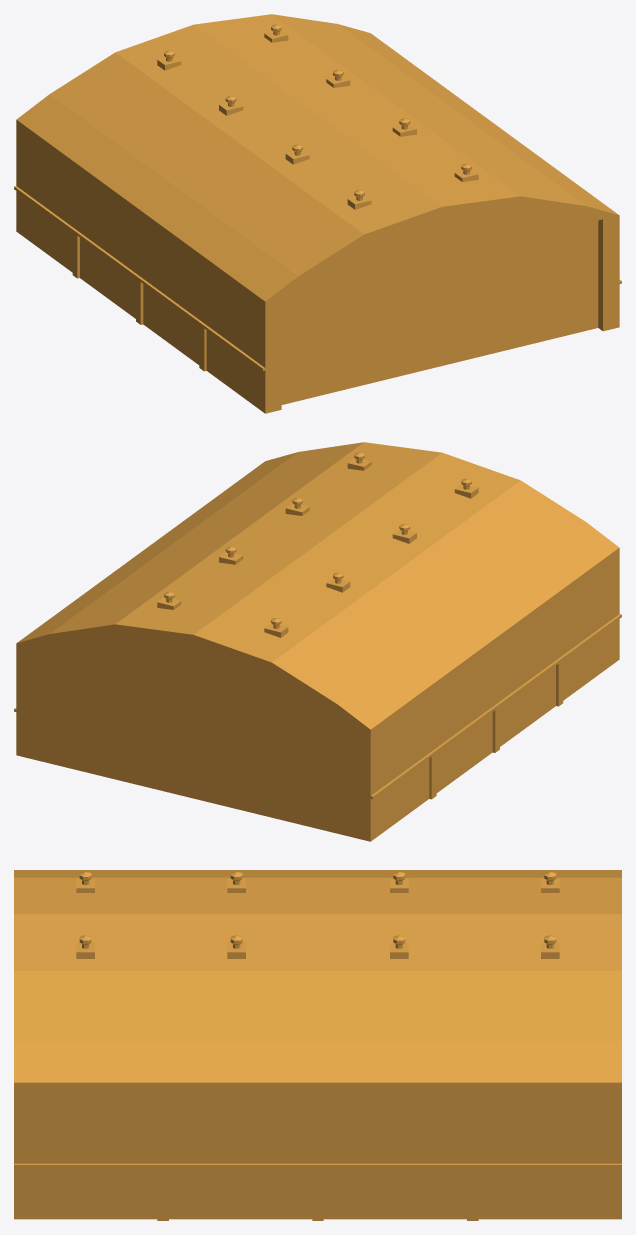
The model's file is airport-hangar.fbx.
3 renders of one model, top to bottom at view 1: azimuth 30°, elevation 25°; view 2: azimuth 150°, elevation 25°; view 3: azimuth 270°, elevation 25°, orthographic. The views are drawn at different scales.
Parts seen in each view (by area): view 1: airport-hangar; view 2: airport-hangar; view 3: airport-hangar.
Part boxes in pixels (bbox=[...]): airport-hangar: bbox=[14, 14, 621, 413]; airport-hangar: bbox=[14, 442, 621, 841]; airport-hangar: bbox=[14, 870, 621, 1220].
Bounding box in the file's own units: 43.6 × 19.94 × 52.33.
